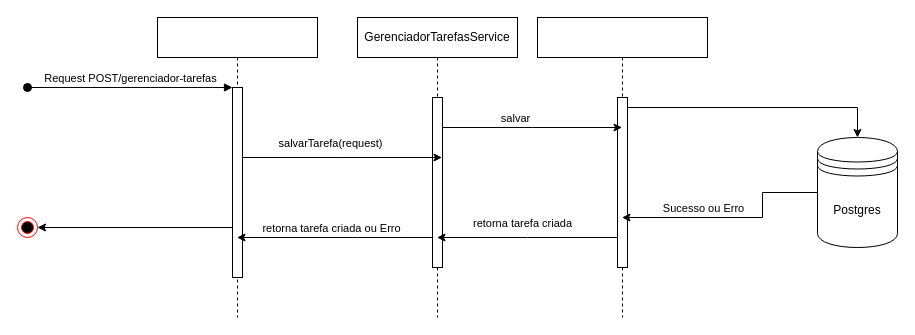
This 915x335 diagram has some shape labels left out. The shapes that lost their labels are listed below. From the top down, each one's box as (x1, y1, x2, y2) in pixels, then its label:
(156, 16, 318, 318): GerenciadorTarefaController
(536, 16, 708, 318): GerenciadorTarefasRepository
